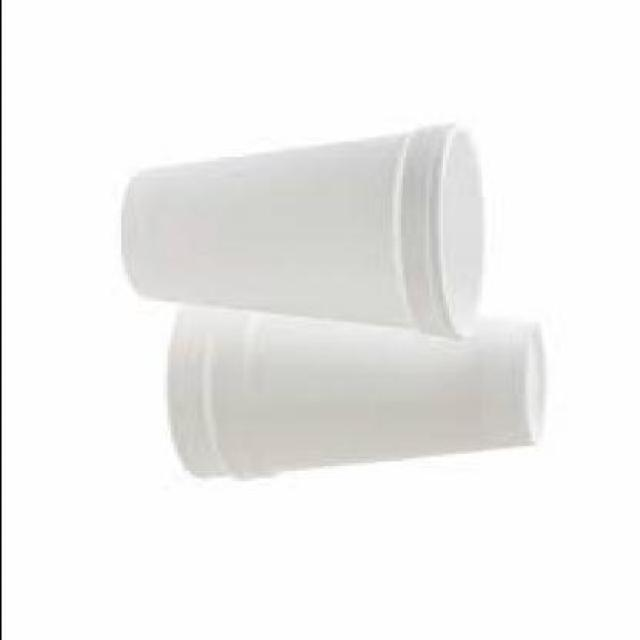PAPER: (130, 123, 484, 335), (169, 298, 548, 478)
